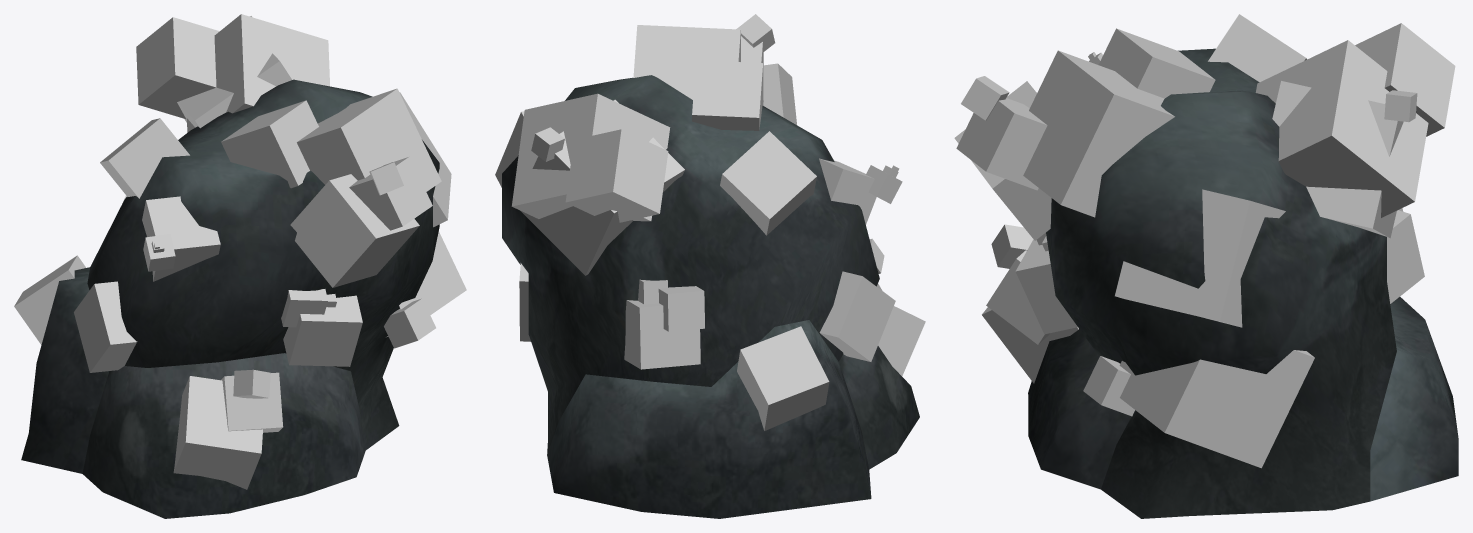
Rendered from Crystal2.FBX.
3 views of the same model, side by side, from view 1: azimuth 30°, elevation 25°; view 2: azimuth 150°, elevation 25°; view 3: azimuth 270°, elevation 25° (orthographic). The views are drawn at different scales.
Visible parts, largest first — view 1: Rock, Crystals; view 2: Rock, Crystals; view 3: Rock, Crystals.
Part boxes in pixels (x1,y1,x2,y2): Rock: (21, 79, 439, 518); Crystals: (14, 14, 466, 489); Rock: (502, 75, 919, 518); Crystals: (495, 14, 925, 430); Rock: (1028, 48, 1458, 518); Crystals: (954, 14, 1455, 468).
Size of the model in its own units: 21.79 by 18.87 by 19.72.
